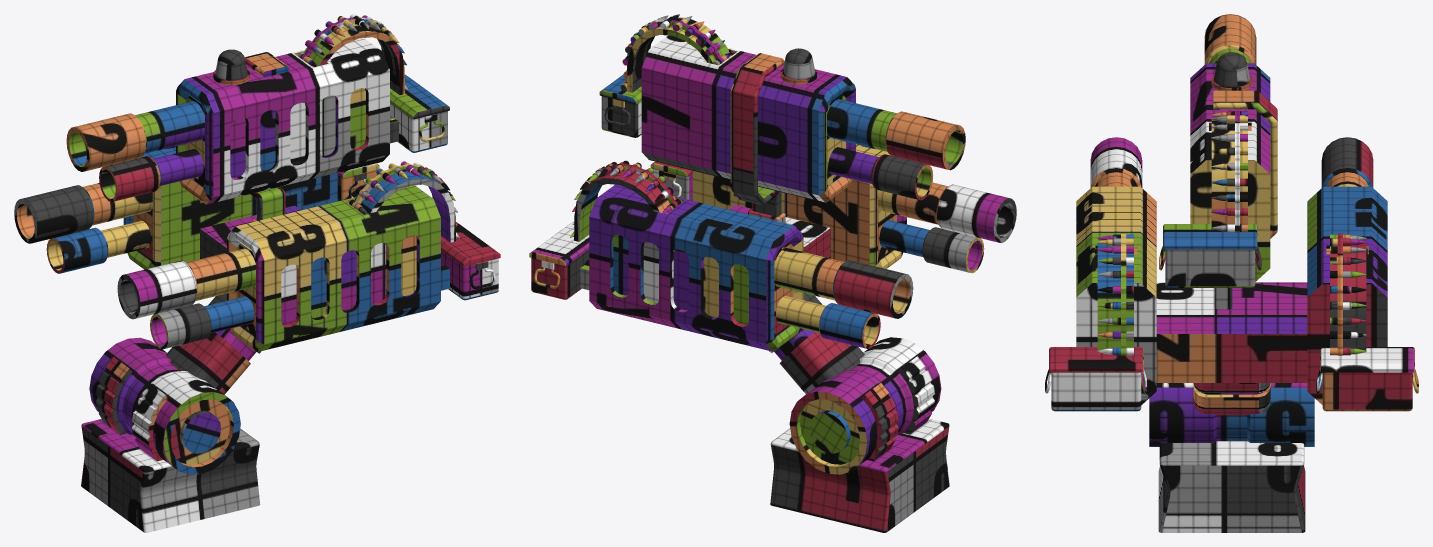
Rendered from SM_Turret_Ground_Air_Lvl_03.fbx.
The picture shows the model from 3 angles, left to right: view 1: azimuth 30°, elevation 25°; view 2: azimuth 150°, elevation 25°; view 3: azimuth 270°, elevation 25°; orthographic projection. The views are drawn at different scales.
Parts seen in each view (by area): view 1: SM_Gun_Turret_01, SM_Gun_Turret_04, SM_Gun_Turret_03, SM_Turret_Body_Base_01, SM_Turret_Body_Pivot_01, SM_Turret_Body_Support_Turret_01, SM_Turret_Body_Handle_Canon_01, SM_Turret_Body_Protection_01, SM_Turret_Body_Protection_02, SM_Turret_Body_01, SM_Gun_Turret_Flash_Light_01; view 2: SM_Gun_Turret_03, SM_Gun_Turret_04, SM_Gun_Turret_01, SM_Turret_Body_Base_01, SM_Turret_Body_Pivot_01, SM_Turret_Body_Handle_Canon_01, SM_Turret_Body_Support_Turret_01, SM_Turret_Body_Protection_02, SM_Turret_Body_Protection_01, SM_Turret_Body_01, SM_Gun_Turret_Flash_Light_01; view 3: SM_Gun_Turret_01, SM_Gun_Turret_03, SM_Gun_Turret_04, SM_Turret_Body_01, SM_Turret_Body_Base_01, SM_Turret_Body_Pivot_01, SM_Turret_Body_Handle_Canon_01, SM_Turret_Body_Support_Turret_01, SM_Gun_Turret_Flash_Light_01.
Boxes of the visible parts, <box> form: SM_Gun_Turret_01: <box>117,161,500,351</box>; SM_Gun_Turret_04: <box>66,14,449,204</box>; SM_Gun_Turret_03: <box>14,146,379,273</box>; SM_Turret_Body_Base_01: <box>81,419,260,532</box>; SM_Turret_Body_Pivot_01: <box>89,337,240,474</box>; SM_Turret_Body_Support_Turret_01: <box>166,293,260,394</box>; SM_Turret_Body_Handle_Canon_01: <box>244,52,288,222</box>; SM_Turret_Body_Protection_01: <box>95,356,132,434</box>; SM_Turret_Body_Protection_02: <box>132,383,168,461</box>; SM_Turret_Body_01: <box>200,205,300,258</box>; SM_Gun_Turret_Flash_Light_01: <box>213,49,249,84</box>; SM_Gun_Turret_03: <box>529,160,913,351</box>; SM_Gun_Turret_04: <box>599,14,965,202</box>; SM_Gun_Turret_01: <box>650,144,1016,273</box>; SM_Turret_Body_Base_01: <box>770,418,949,532</box>; SM_Turret_Body_Pivot_01: <box>789,337,941,474</box>; SM_Turret_Body_Handle_Canon_01: <box>730,53,785,223</box>; SM_Turret_Body_Support_Turret_01: <box>769,293,864,393</box>; SM_Turret_Body_Protection_02: <box>898,356,934,434</box>; SM_Turret_Body_Protection_01: <box>862,383,898,461</box>; SM_Turret_Body_01: <box>729,205,830,258</box>; SM_Gun_Turret_Flash_Light_01: <box>780,48,817,84</box>; SM_Gun_Turret_01: <box>1045,137,1156,411</box>; SM_Gun_Turret_03: <box>1307,137,1418,411</box>; SM_Gun_Turret_04: <box>1159,14,1270,287</box>; SM_Turret_Body_01: <box>1156,282,1307,382</box>; SM_Turret_Body_Base_01: <box>1158,441,1305,532</box>; SM_Turret_Body_Pivot_01: <box>1149,383,1314,446</box>; SM_Turret_Body_Handle_Canon_01: <box>1213,90,1277,309</box>; SM_Turret_Body_Support_Turret_01: <box>1193,383,1270,415</box>; SM_Gun_Turret_Flash_Light_01: <box>1211,52,1252,90</box>.
Bounding box in the file's own units: 246 × 296 × 208.
1 material, 1 textured.
